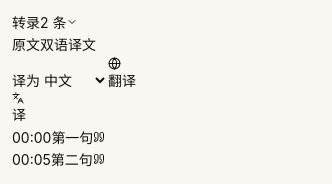
LNTranscriptPanel 转录工具行（Q2） › 折叠只隐藏工具行，不隐藏字幕正文
Click the button named "折叠工具行" at coordinates (72, 22), box [66,16,78,28]
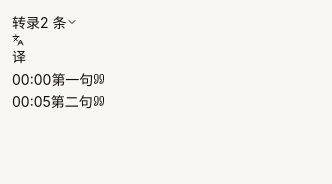
Check: the text "第一句" is shown, box [51,71,93,88]
Check: the element with class "ln-tr-head-tools" is gone
Note: 再次点击恢复工具行
Click the button named "展开工具行" at coordinates (72, 22), box [66,16,78,28]
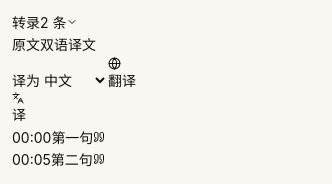
Check: the element with class "ln-tr-head-tools" is shown, box [12,34,136,92]
